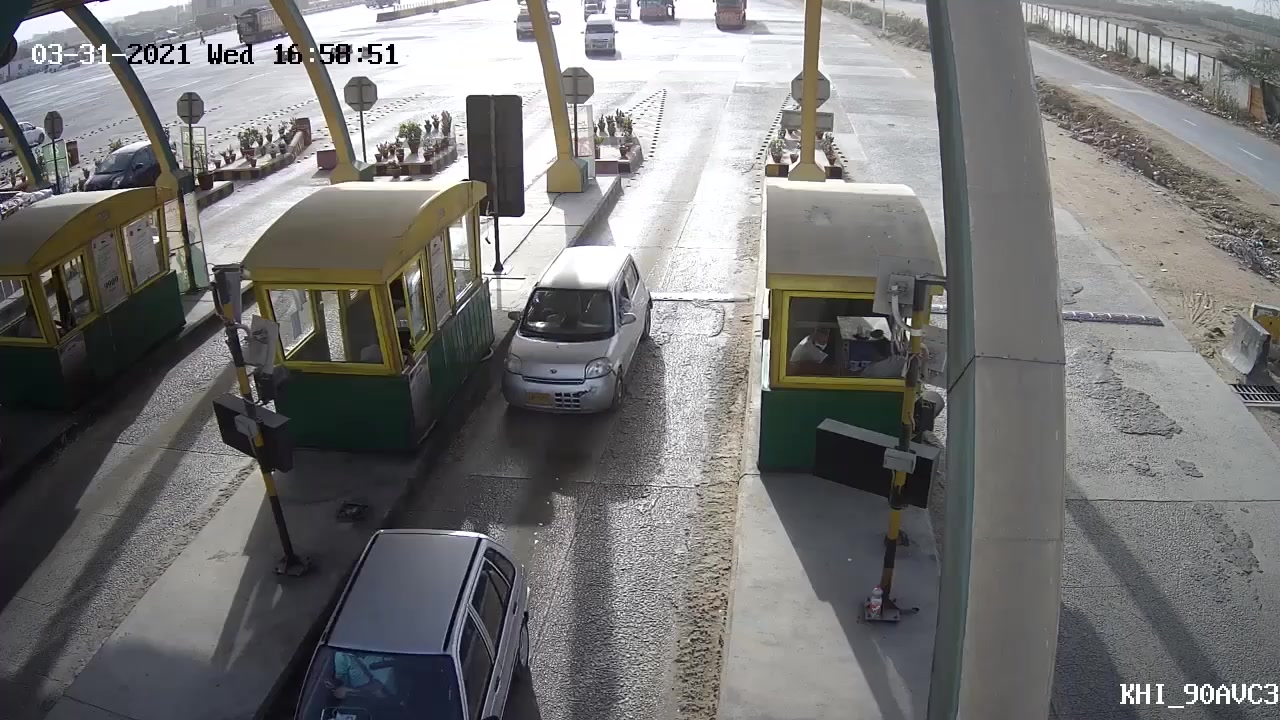F1: (491, 240, 661, 424)
